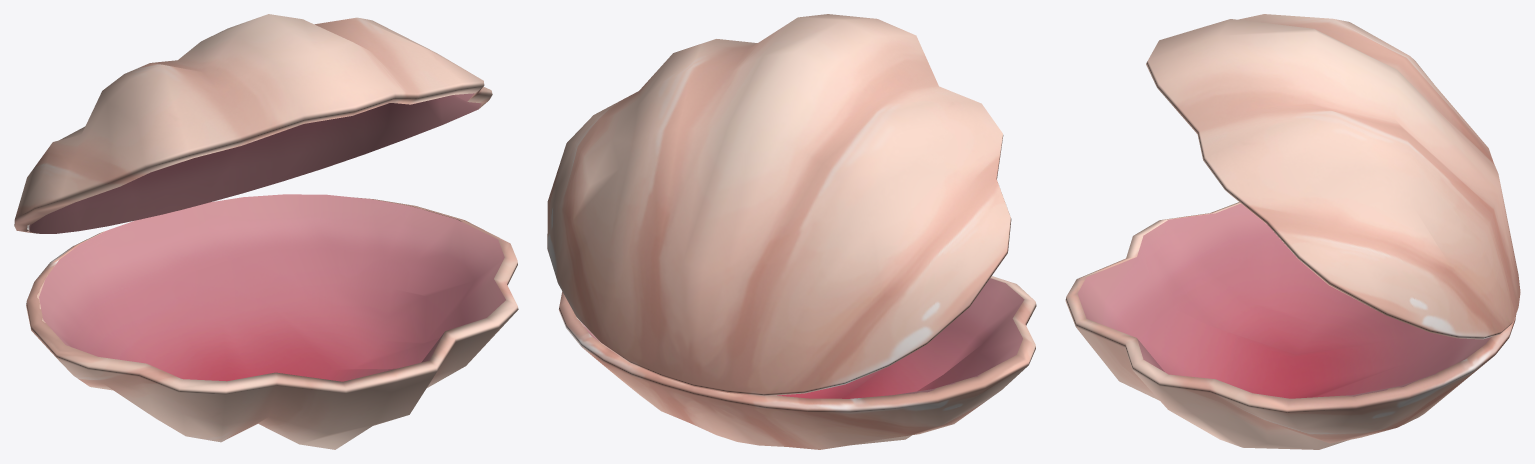
Rendered from beike02.fbx.
The picture shows the model from 3 angles, left to right: view 1: azimuth 30°, elevation 25°; view 2: azimuth 150°, elevation 25°; view 3: azimuth 270°, elevation 25°; orthographic projection. The views are drawn at different scales.
Parts seen in each view (by area): view 1: beike02; view 2: beike02; view 3: beike02.
Part boxes in pixels (box(x1,y1,x2,y2)): beike02: box(14, 14, 518, 449); beike02: box(547, 14, 1036, 449); beike02: box(1065, 14, 1520, 449).
Bounding box in the file's own units: 13.15 × 10.9 × 11.67.
